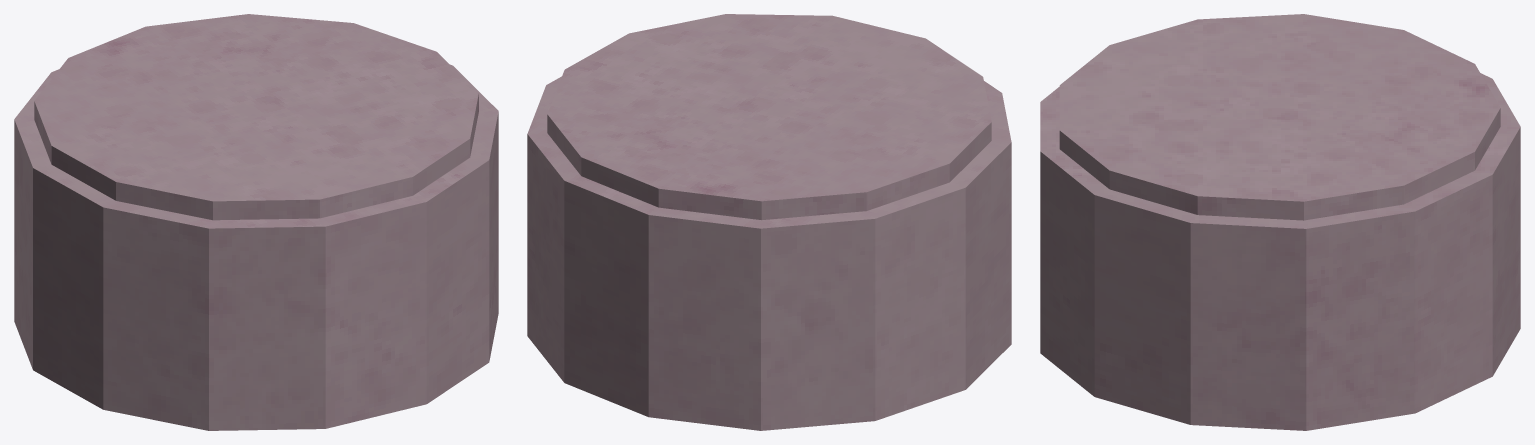
The model's file is platform.glb.
The picture shows the model from 3 angles, left to right: view 1: azimuth 30°, elevation 25°; view 2: azimuth 150°, elevation 25°; view 3: azimuth 270°, elevation 25°; orthographic projection.
Visible parts, largest first — view 1: roll; view 2: roll; view 3: roll.
Part boxes in pixels (left/top/right/bottom): roll: left=14, top=14, right=498, bottom=430; roll: left=527, top=14, right=1011, bottom=430; roll: left=1040, top=14, right=1520, bottom=430.
Size of the model in its own units: 0.0993 by 0.05 by 0.0985.
1 material, 1 textured.
